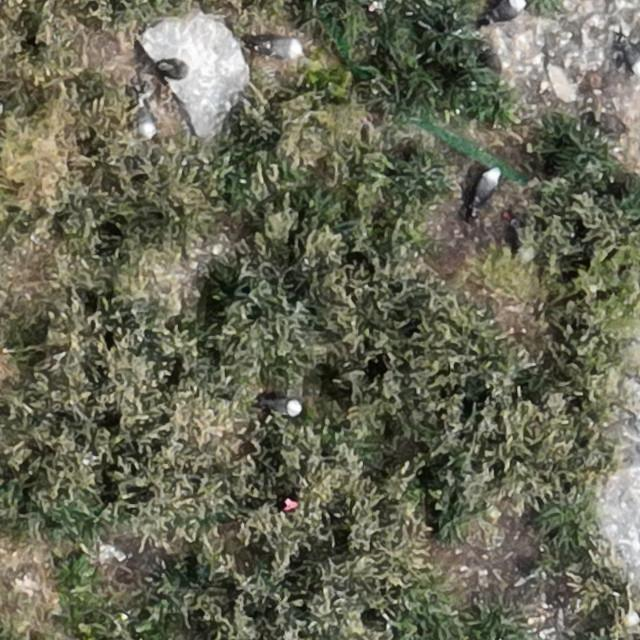umineko: (476, 170, 499, 205), (264, 40, 302, 59), (493, 1, 526, 20), (265, 399, 301, 416), (137, 106, 155, 136), (625, 43, 640, 74)
